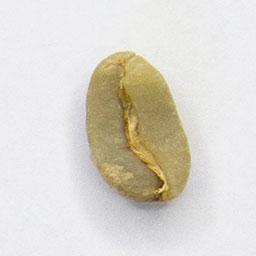longberry: (81, 45, 197, 208)
